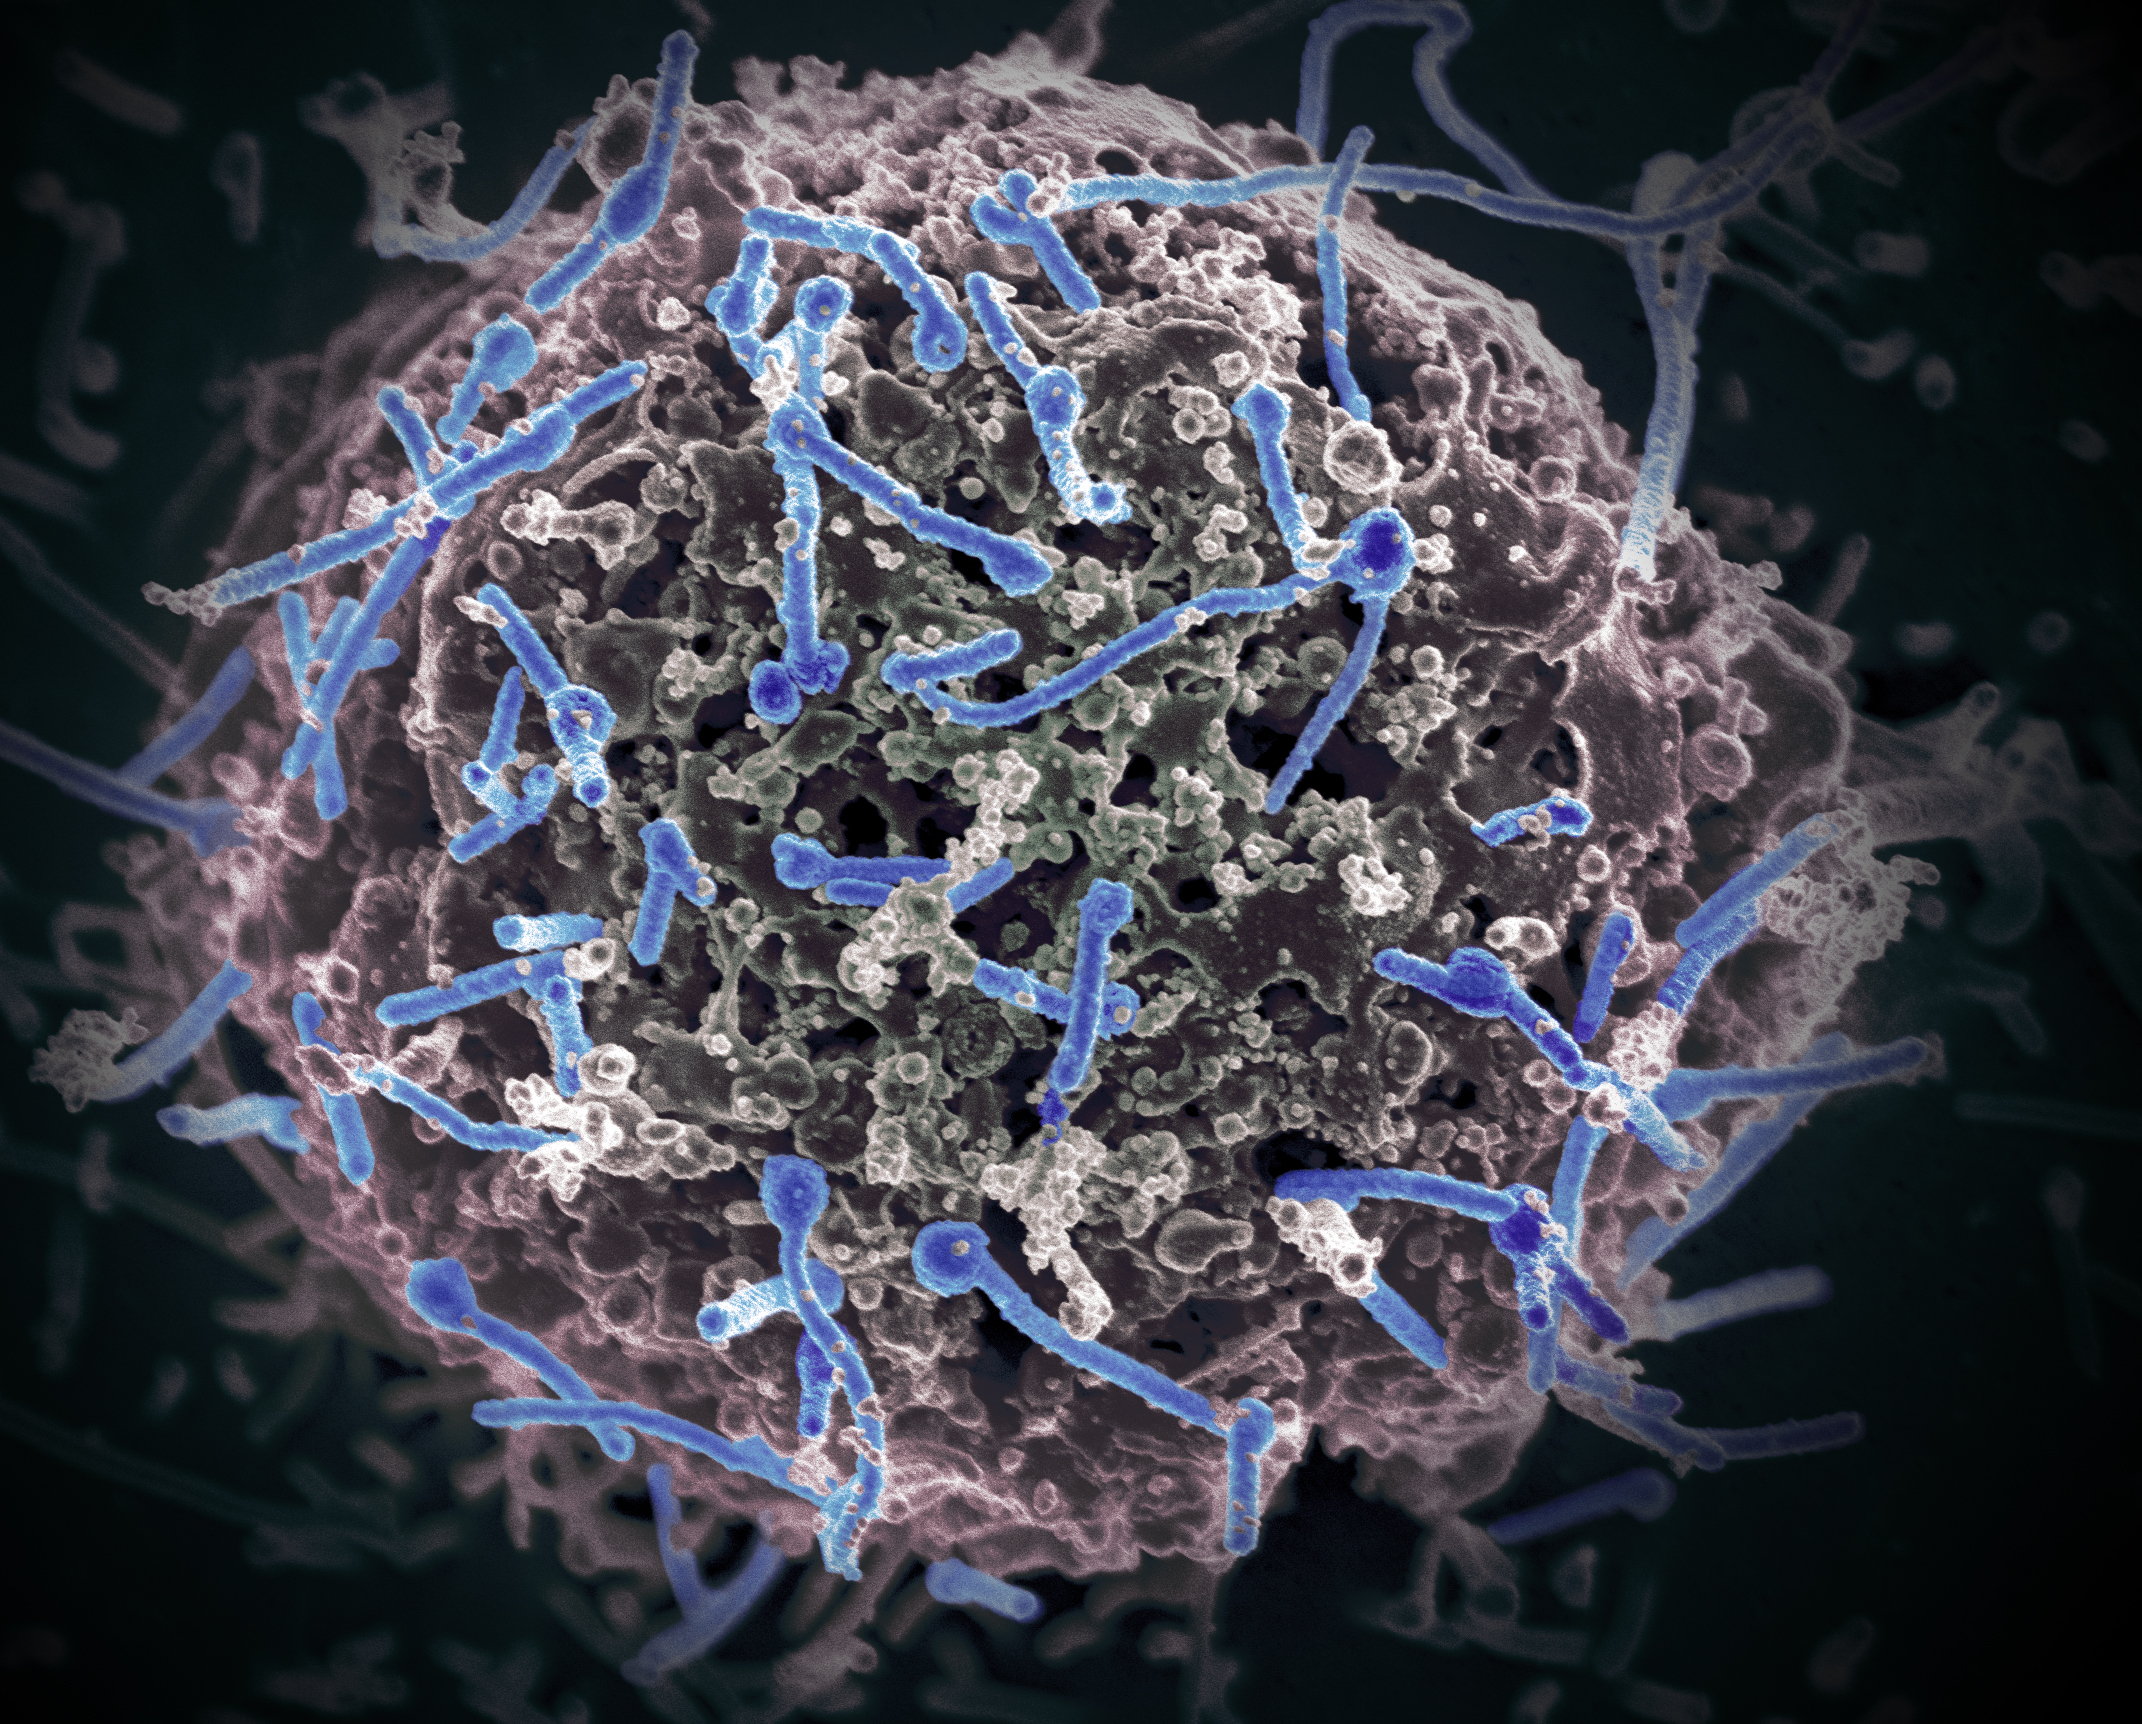EBOLA: (183, 104, 1811, 1434)
